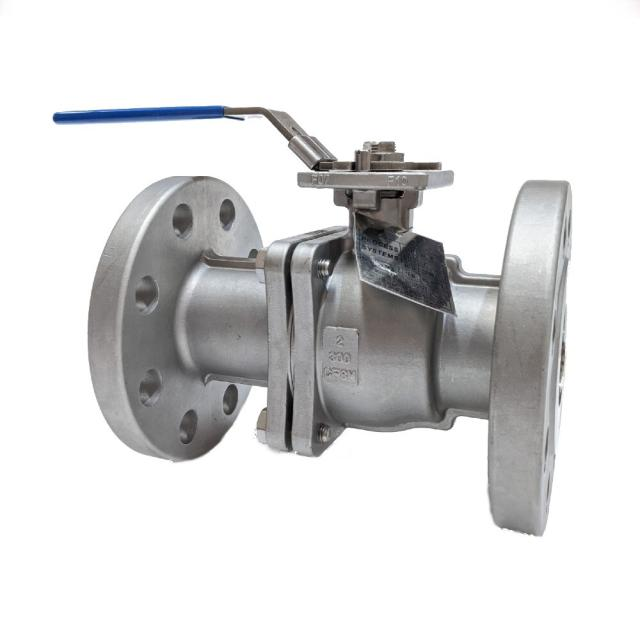Lever Handle Valve Threaded: (48, 80, 476, 236)
